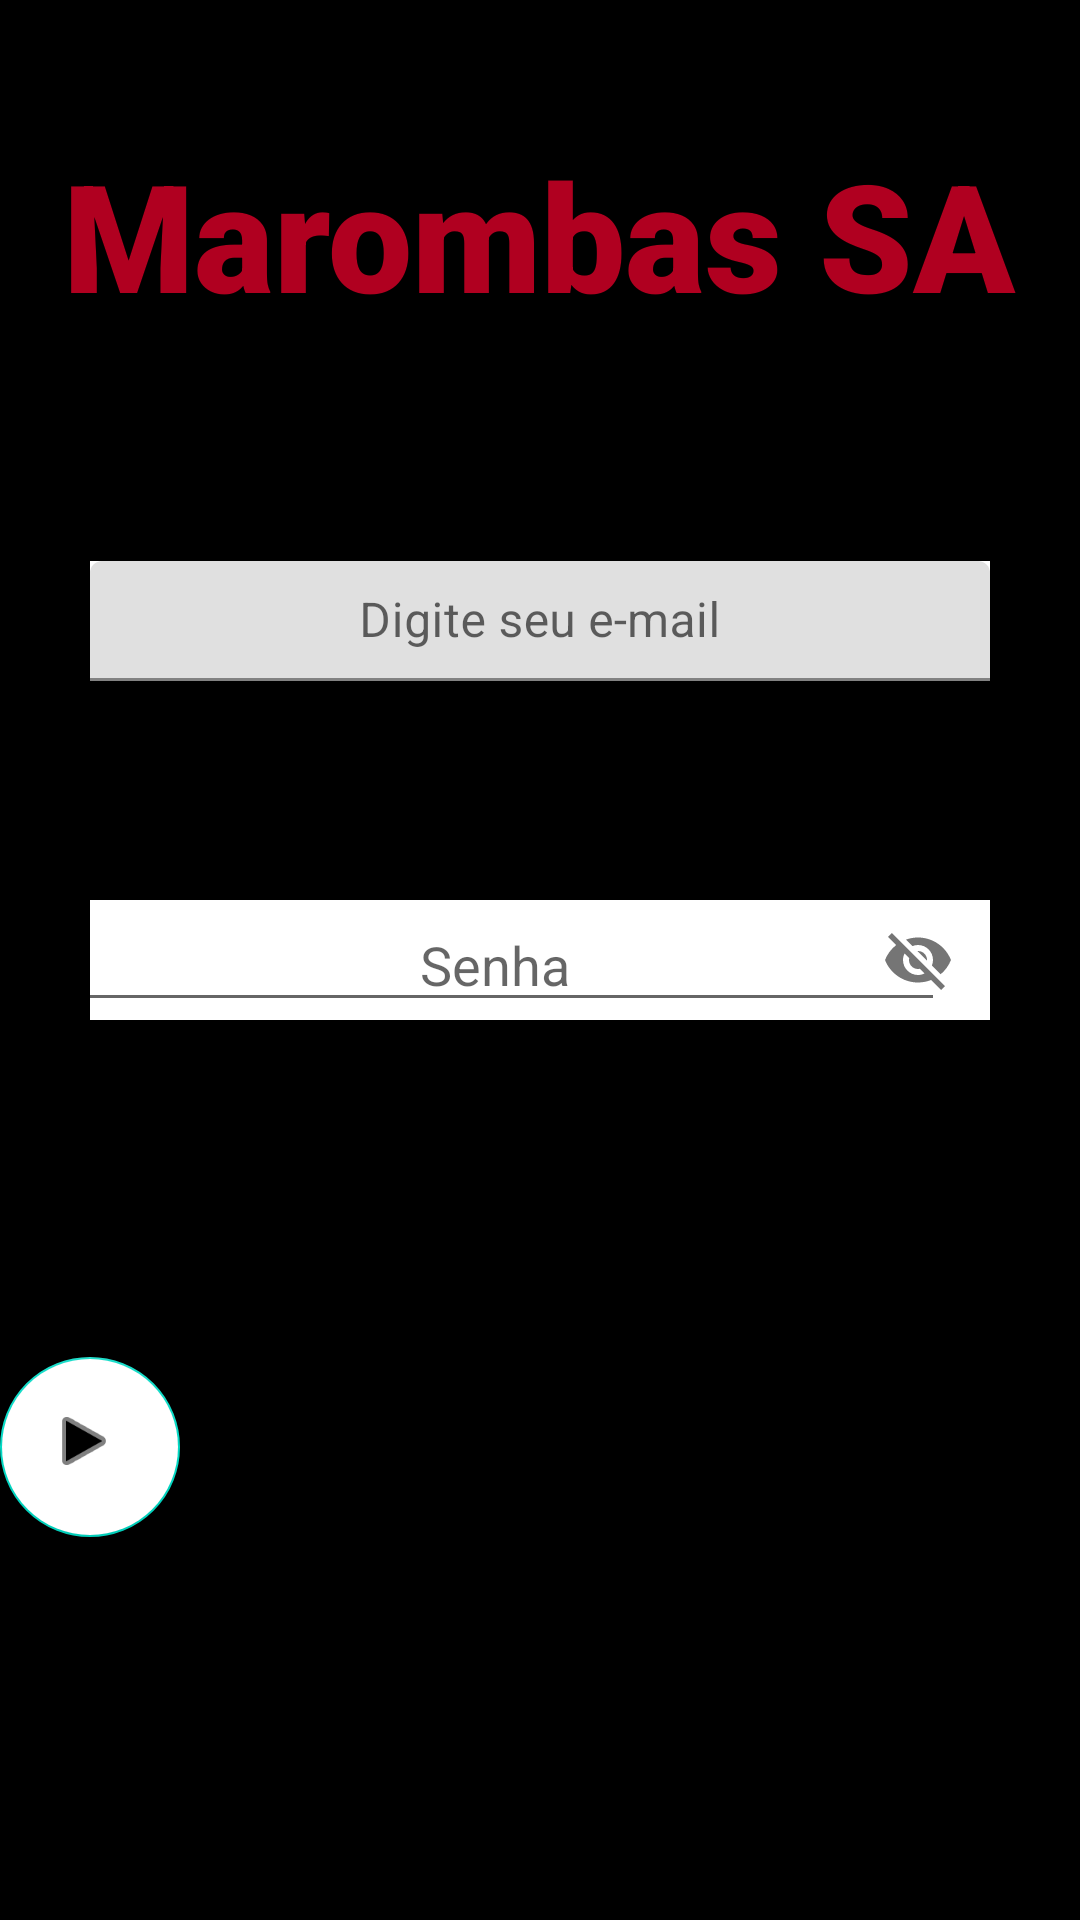

Point at icon controls on the screen. Image size 1080w x 1920h, points as point (x, y).
play: point (90, 1447)
